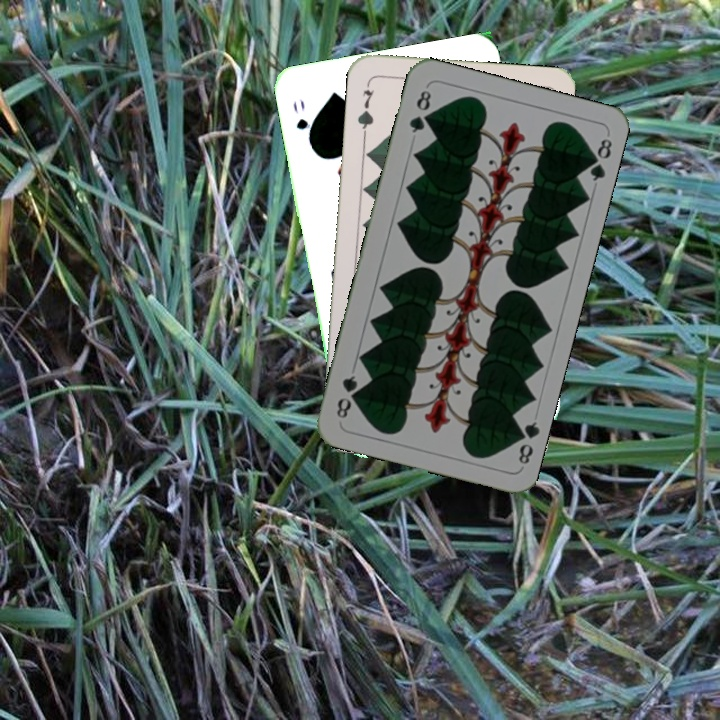G7: (353, 78, 377, 137)
G8: (509, 417, 542, 470), (405, 86, 434, 136)
GO: (288, 96, 315, 148)
